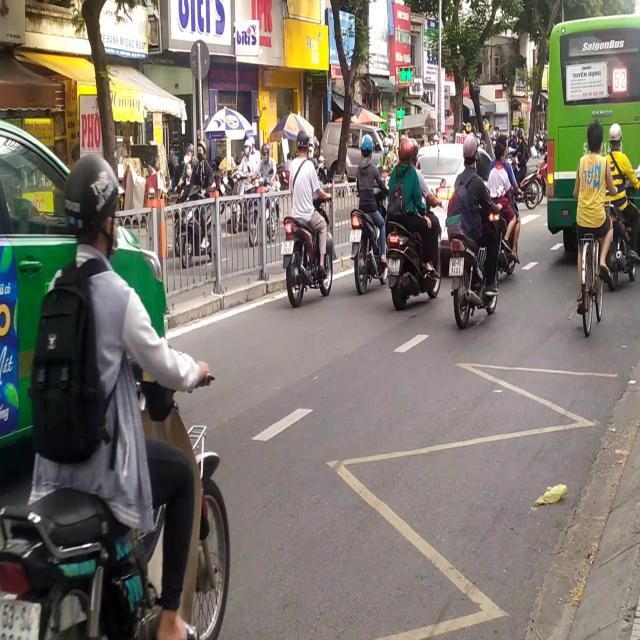bien_trang: (448, 255, 464, 277), (280, 238, 295, 258), (387, 254, 400, 277), (348, 228, 362, 243)
